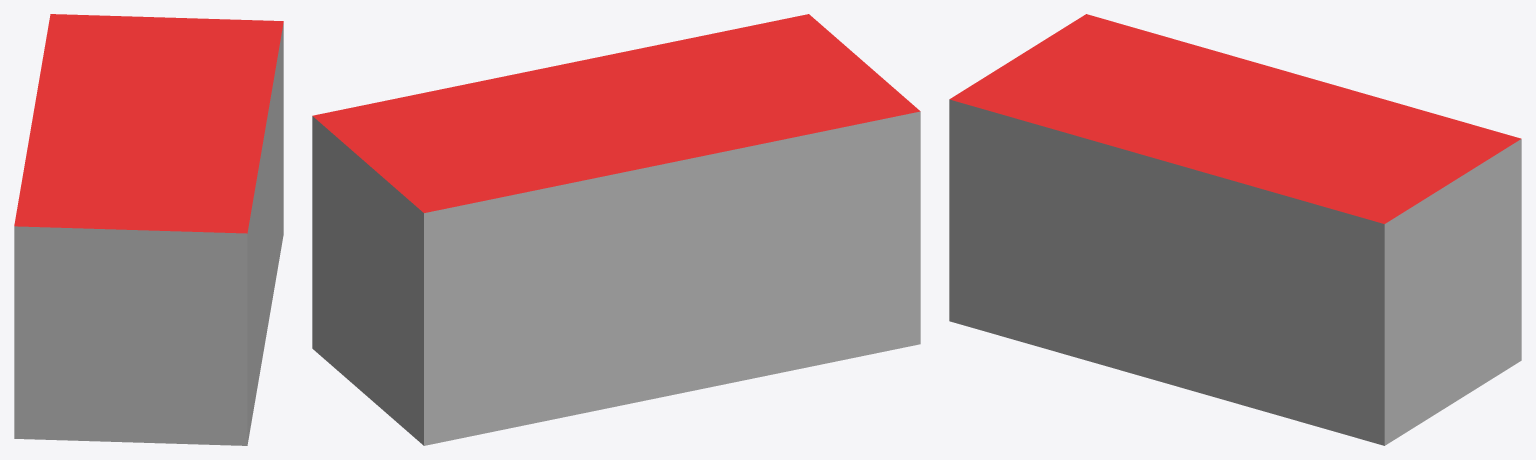
The model's file is ID_f5379de2-e967-4ffd-880f-22a55e737a84.dae.
3 views of the same model, side by side, from view 1: azimuth 30°, elevation 25°; view 2: azimuth 150°, elevation 25°; view 3: azimuth 270°, elevation 25° (orthographic). The views are drawn at different scales.
Size of the model in its own units: 26.47 by 30.47 by 13.03.
